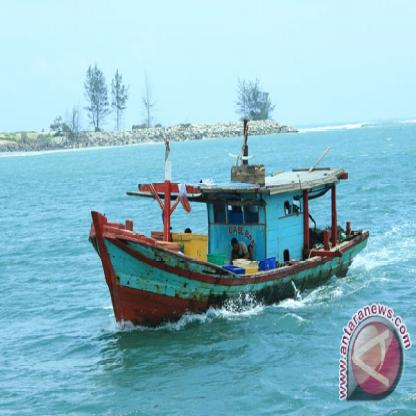fishing boat: (80, 178, 386, 303)
